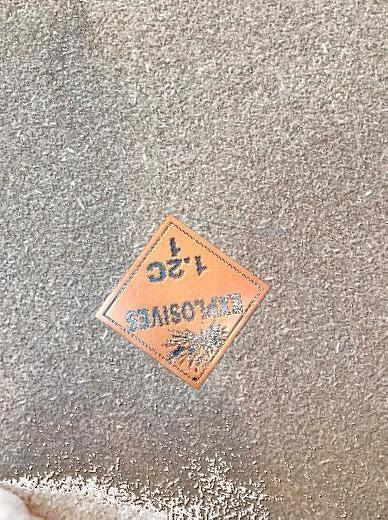explosive: (97, 215, 271, 390)
